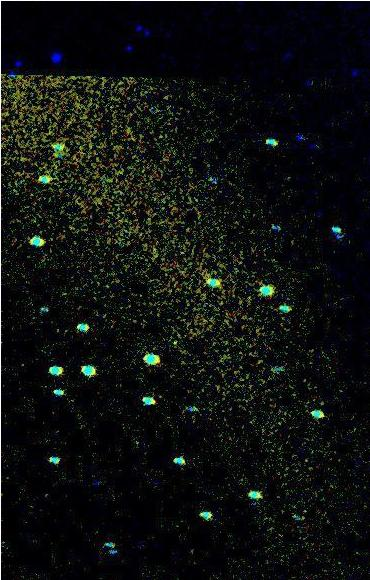star: (163, 323, 193, 353)
